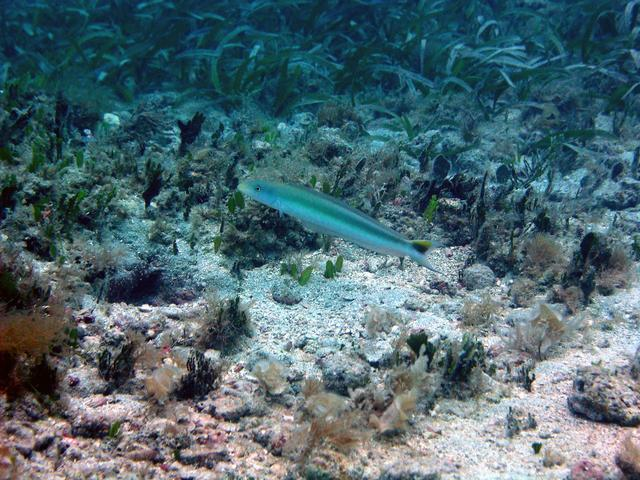fish: (216, 151, 479, 296)
